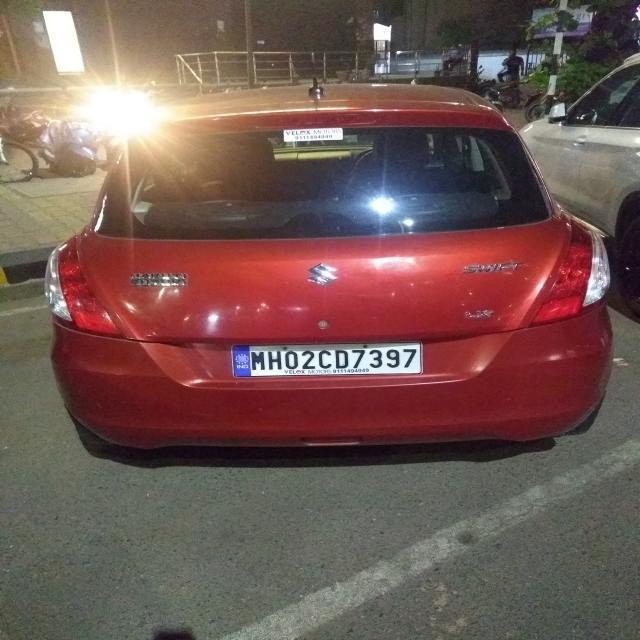Number-Plate: (232, 342, 426, 378)
